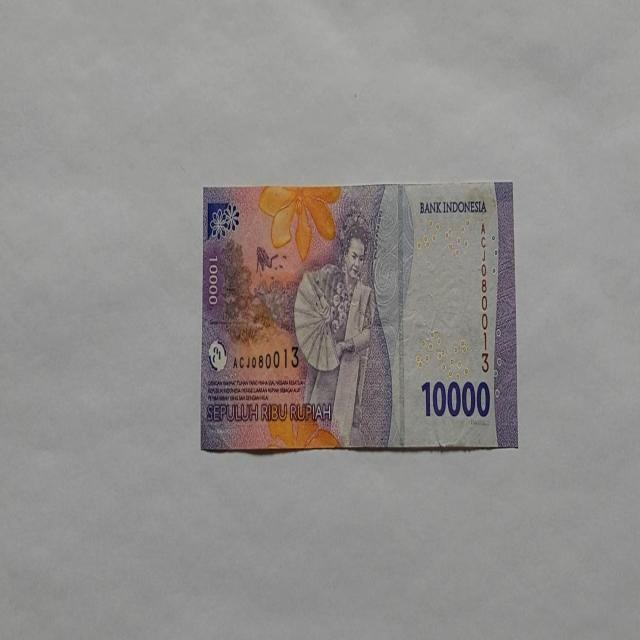Kertas: (200, 180, 517, 454), (420, 377, 490, 419)
